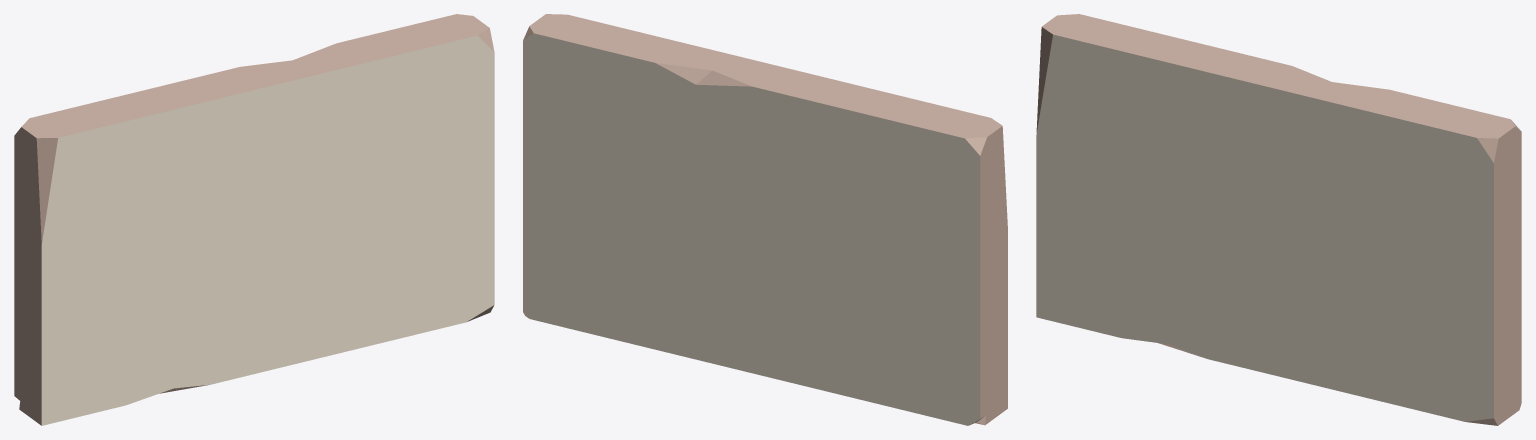
File: SR_Wall_01.fbx
3 renders of one model, left to right at view 1: azimuth 30°, elevation 25°; view 2: azimuth 150°, elevation 25°; view 3: azimuth 330°, elevation 25°, orthographic.
Visible parts, largest first — view 1: SR_Wall_01; view 2: SR_Wall_01; view 3: SR_Wall_01.
Part boxes in pixels (x1,y1,x2,y2): SR_Wall_01: (14,14,494,425); SR_Wall_01: (523,14,1007,425); SR_Wall_01: (1036,14,1521,425).
Bounding box in the file's own units: 501 × 300 × 52.34.
